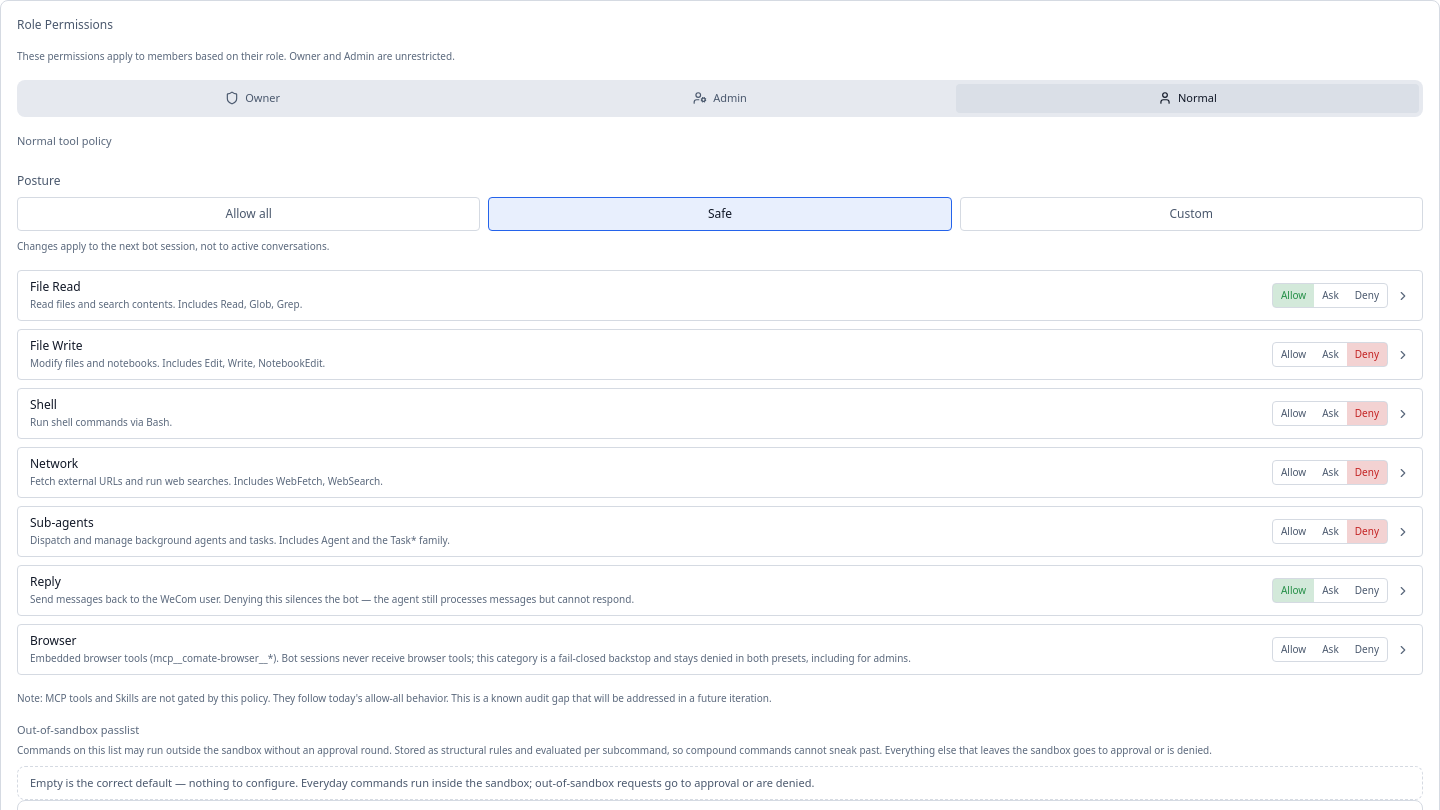
Scenario: BotRolePermissions › shows full-permission description for Owner and hides editors
The width and height of the screenshot is (1440, 810).
Click the button "Owner" at (253, 98), box [21, 84, 484, 112]
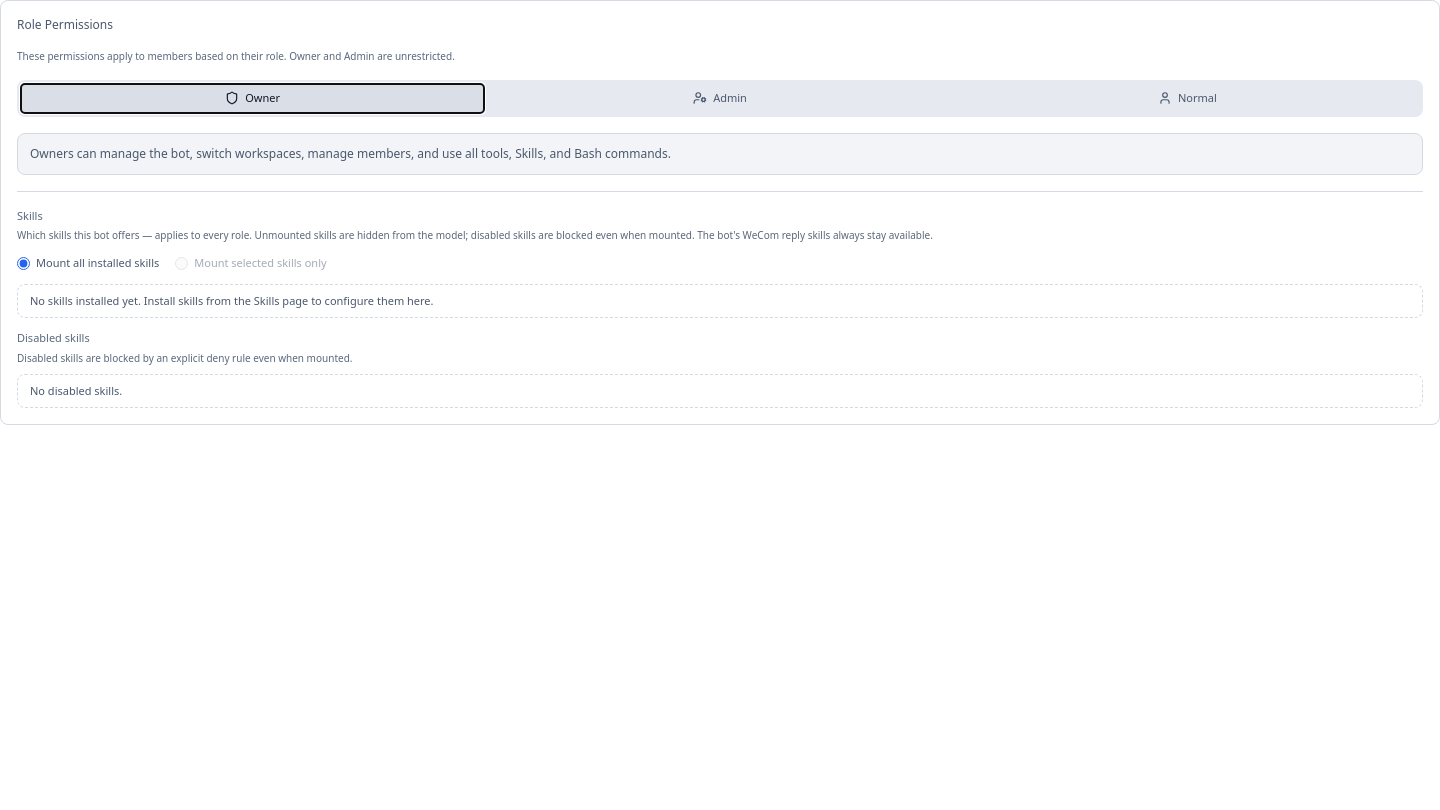
expect the text "Owners can manage the bot" is shown: met, box [30, 144, 671, 162]
